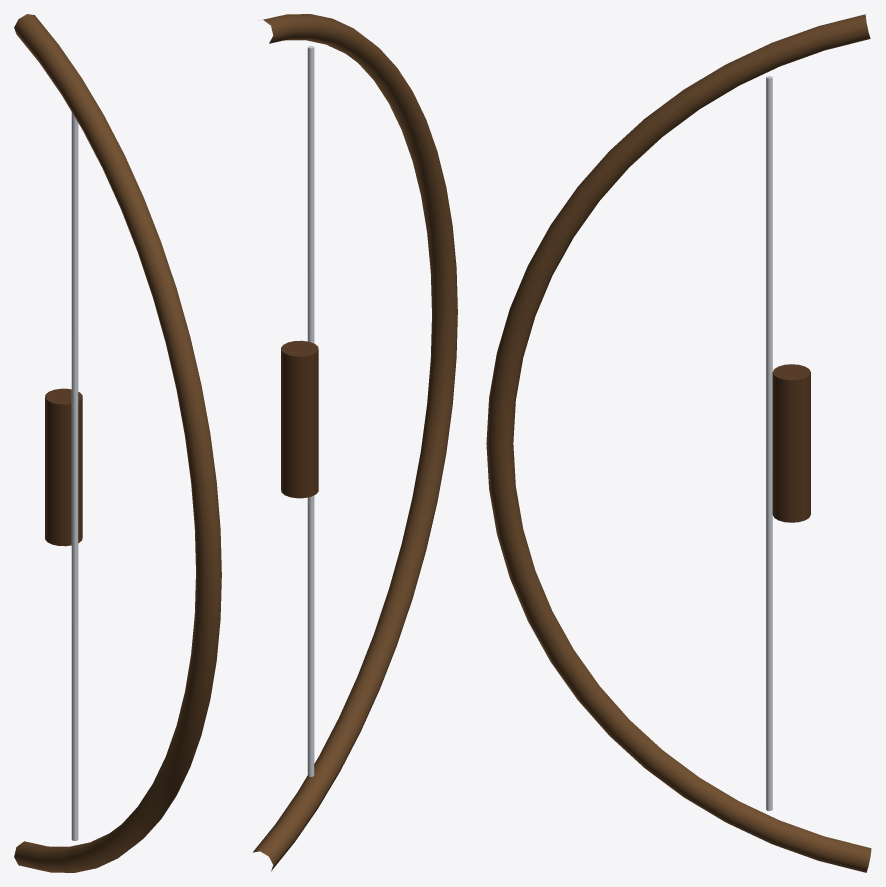
File: bow.glb
The picture shows the model from 3 angles, left to right: view 1: azimuth 30°, elevation 25°; view 2: azimuth 150°, elevation 25°; view 3: azimuth 270°, elevation 25°; orthographic projection.
Parts seen in each view (by area): view 1: limbs, string, grip; view 2: limbs, grip, string; view 3: limbs, grip, string.
Boxes of the visible parts, x1,y1,x2,y2 form: limbs: (14, 14, 221, 872); string: (71, 112, 78, 840); grip: (45, 388, 82, 546); limbs: (252, 14, 457, 871); grip: (281, 340, 318, 498); string: (307, 46, 314, 776); limbs: (486, 14, 871, 872); grip: (772, 364, 810, 522); string: (766, 76, 772, 810).
Size of the model in its own units: 0.034 by 0.8432 by 0.343.
